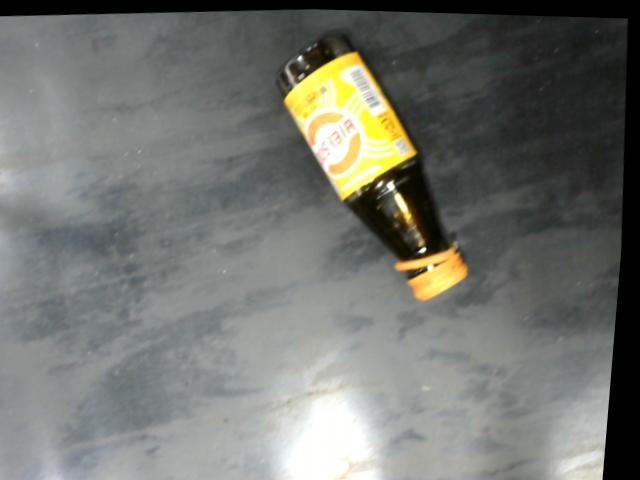glass: (274, 33, 479, 302)
